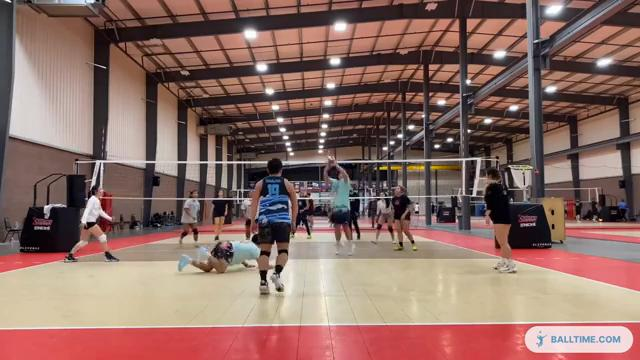alzata: (318, 153, 359, 257)
